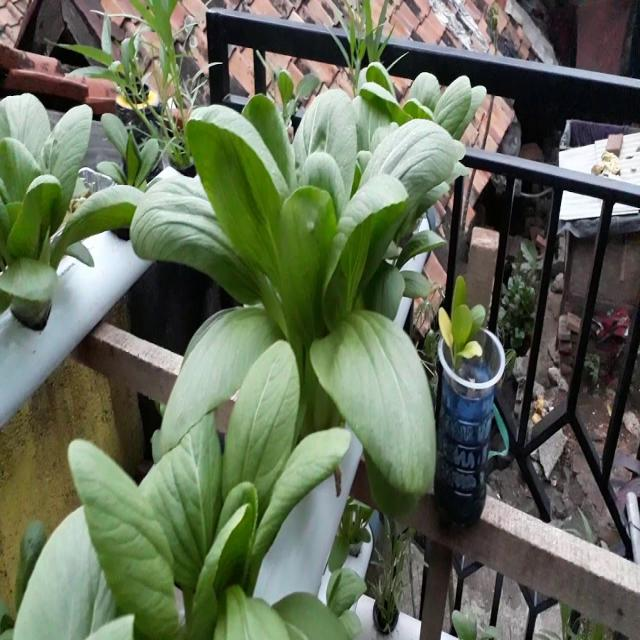pakcoy_sehat: (144, 81, 483, 512)
